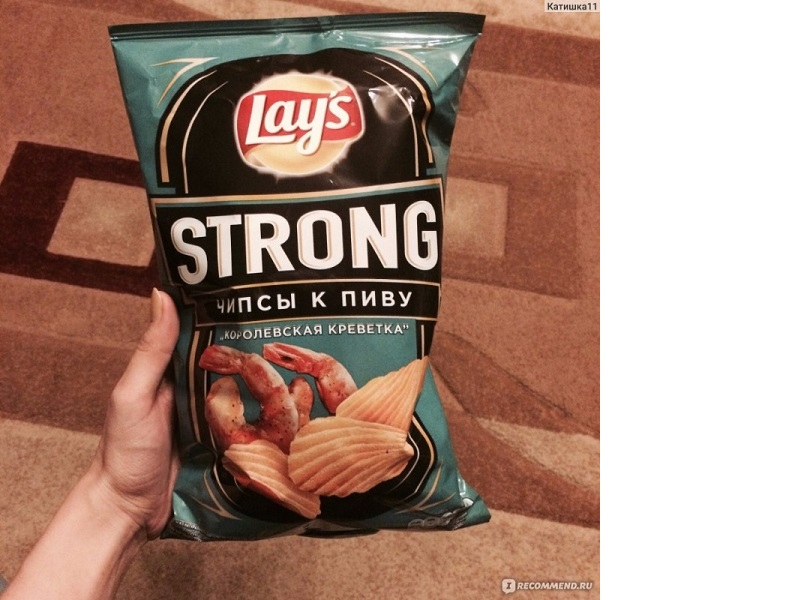chips: (75, 7, 523, 544)
